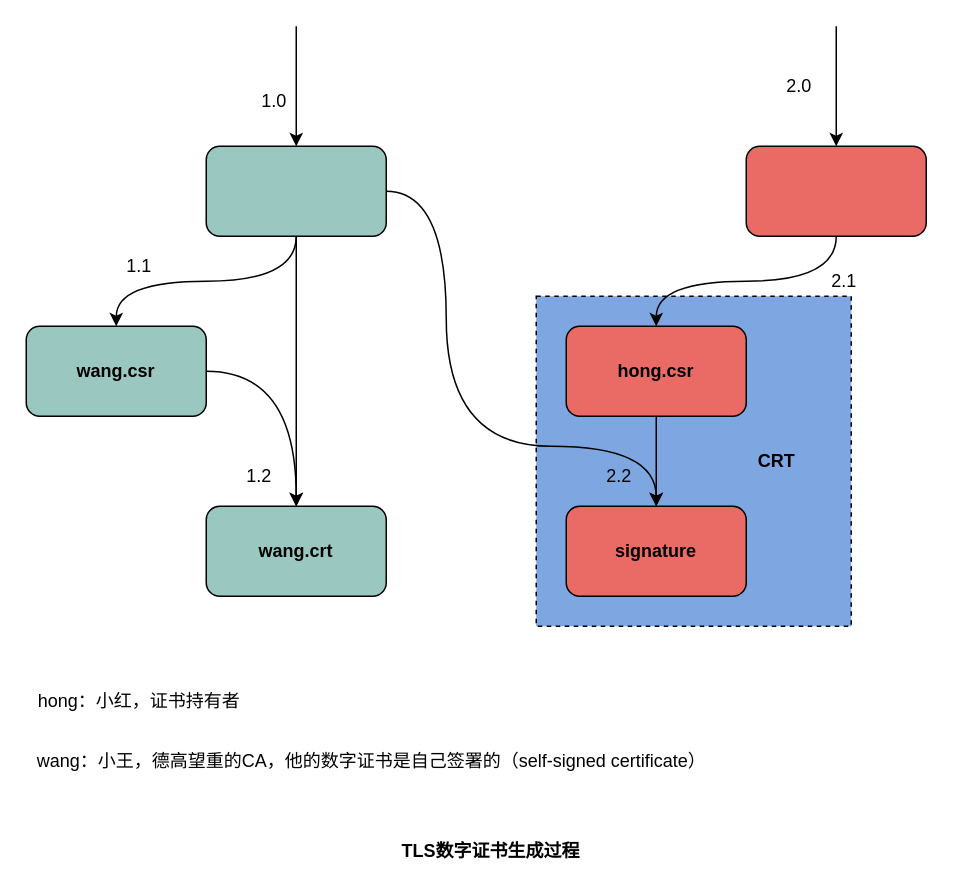
Image size: 953x893. Some labels were removed from this diagram. The box of each missing label's shape, as (x1, y1, x2, y2) in pixels:
hong.key: (745, 145, 926, 236)
wang.key: (205, 145, 386, 236)
